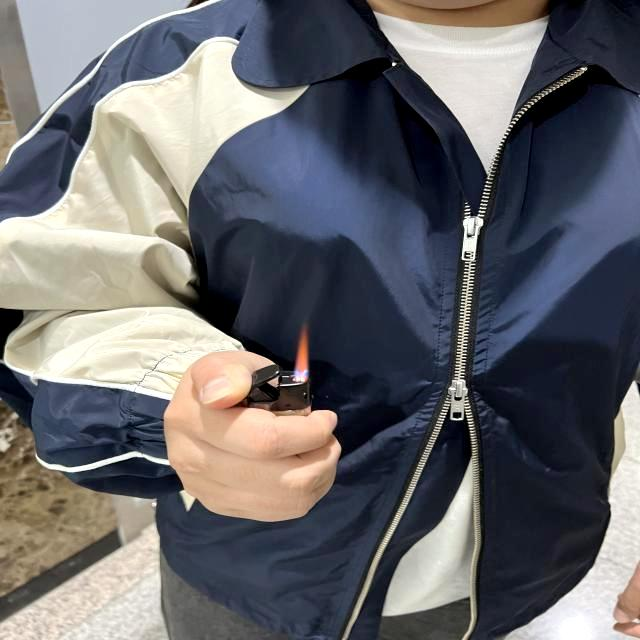fire: (290, 326, 312, 382)
